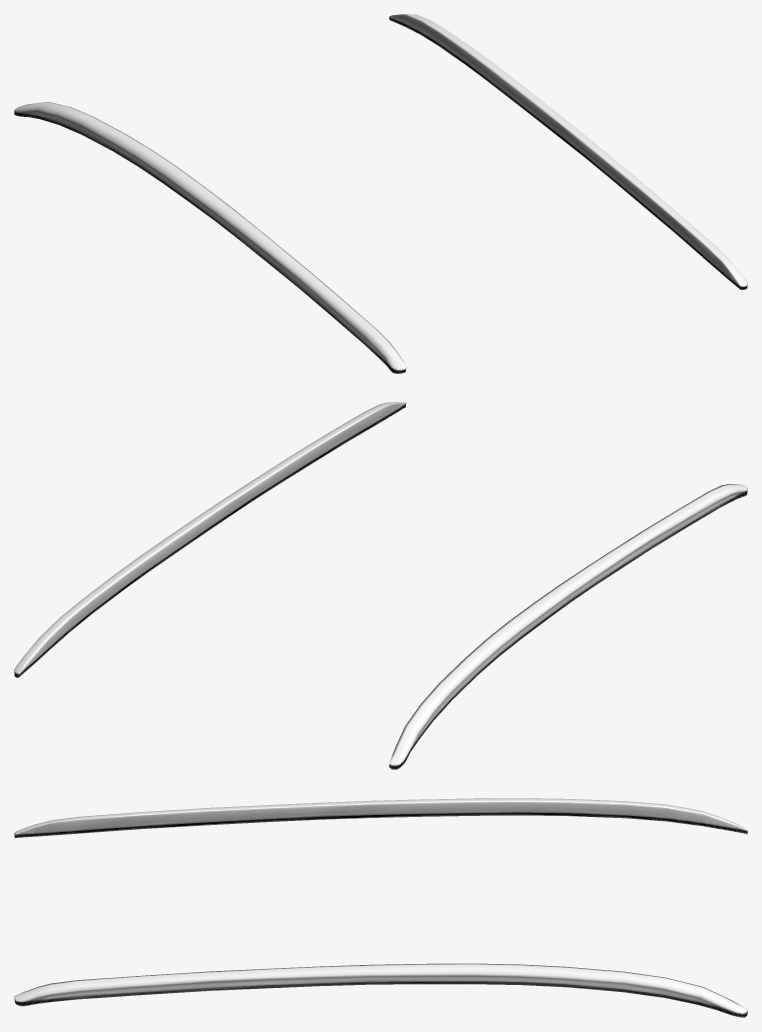
File: roof_rail.glb
The picture shows the model from 3 angles, top to bottom: view 1: azimuth 30°, elevation 25°; view 2: azimuth 150°, elevation 25°; view 3: azimuth 270°, elevation 25°; orthographic projection.
Parts seen in each view (by area): view 1: roof_rail; view 2: roof_rail; view 3: roof_rail.
Part boxes in pixels (bbox=[...]): roof_rail: bbox=[14, 14, 747, 373]; roof_rail: bbox=[14, 402, 747, 769]; roof_rail: bbox=[14, 798, 747, 1017].
Bounding box in the file's own units: 1.02 × 0.1081 × 1.69.
1 material, 1 textured.
